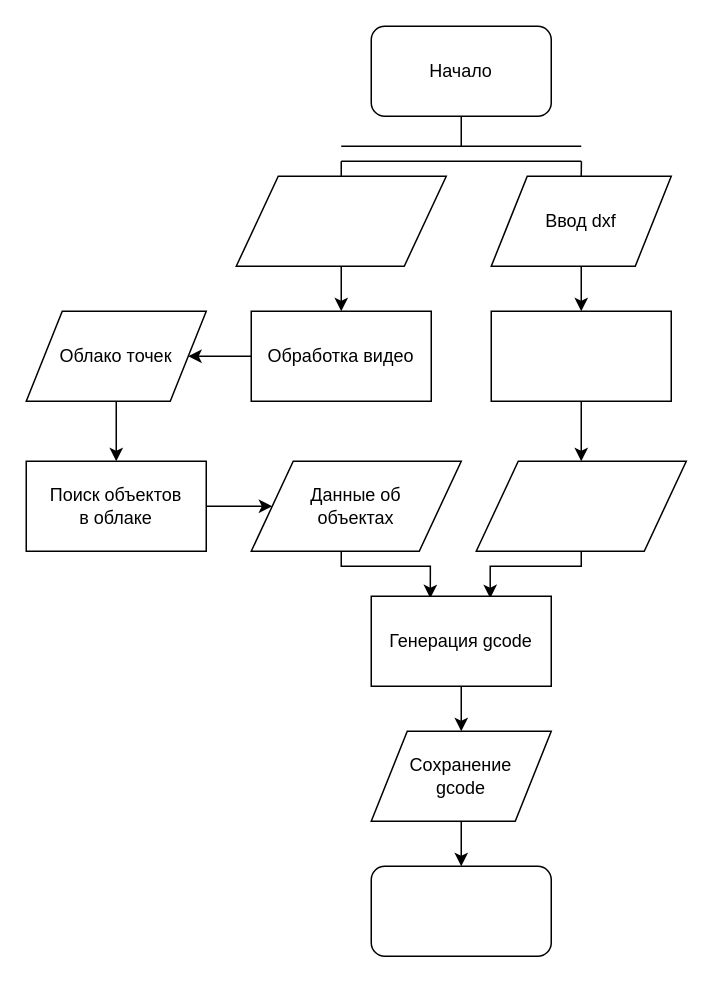
Some shapes in this 713 by 983 pixel diagram are drawn without their labels. Here are the shapes that lost their labels. From the top down, the centre of each, then its label:
At pixel 340 220: "Ввод видео".
At pixel 580 355: "Обработка dxf".
At pixel 580 505: "Подготовленный рисунок".
At pixel 460 910: "Конец".
